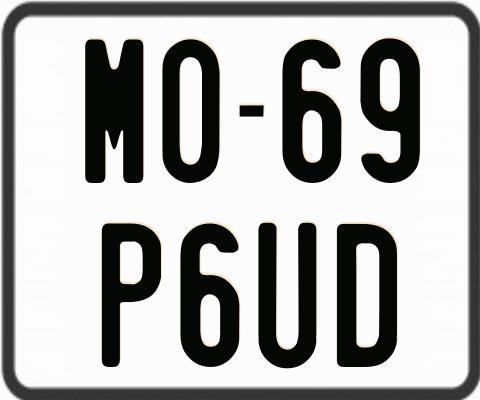0: (159, 39, 220, 185)
6: (281, 38, 345, 184), (178, 220, 240, 367)
9: (360, 37, 423, 186)
D: (335, 221, 401, 367)
M: (84, 37, 145, 181)
P: (102, 220, 165, 369)
U: (257, 222, 316, 371)
